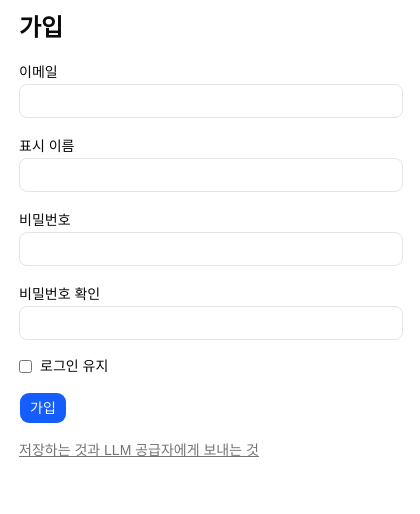
Scenario: SignUpPage › 비밀번호와 확인이 다르면 보내지 않는다
Type "kim@example.com" into the field labelled "이메일". click: (211, 101)
box: [19, 84, 403, 118]
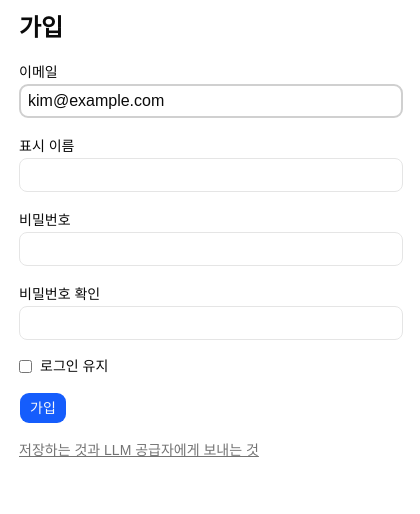
Type "김요즘" into the field labelled "표시 이름". click: (211, 175)
box: [19, 158, 403, 192]
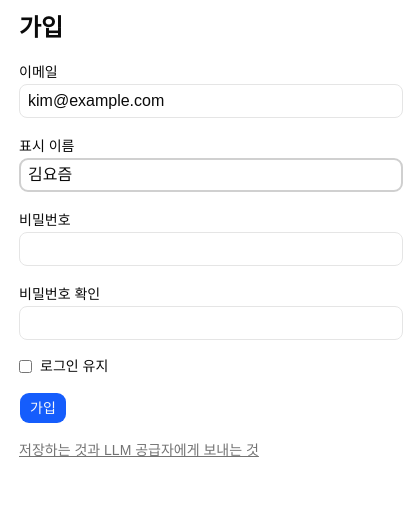
Type "correct horse" into the password field labelled "비밀번호". click: (211, 249)
box: [19, 232, 403, 266]
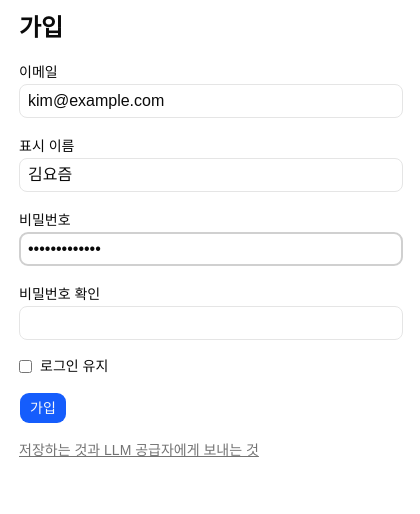
Type "correct hose" into the password field labelled "비밀번호 확인". click: (211, 323)
box: [19, 306, 403, 340]
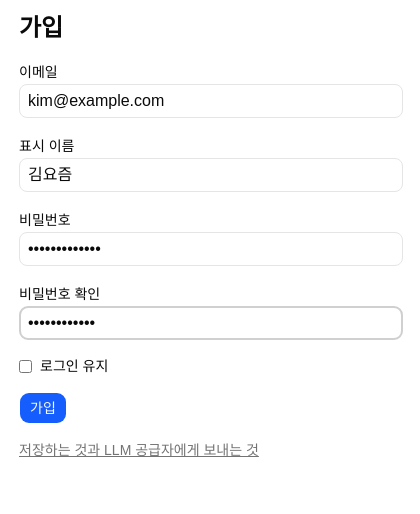
Click the checkbox labelled "로그인 유지". click: (26, 366)
box: [19, 360, 32, 372]
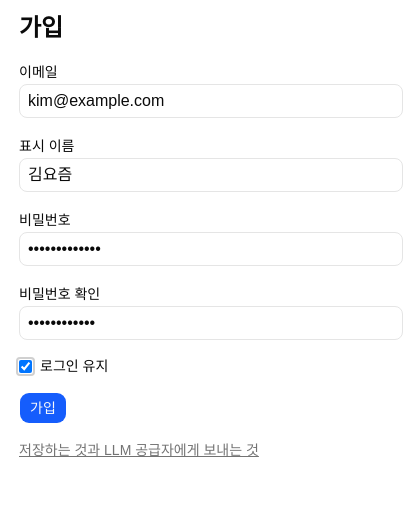
Click the button "가입". click: (43, 408)
box: [19, 392, 67, 424]
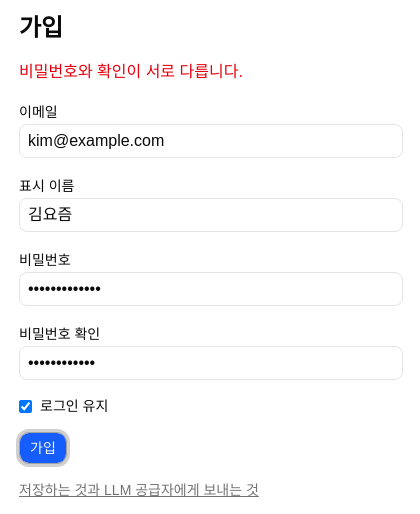
Expected: the message reads "비밀번호와 확인이 서로 다릅니다.", [19, 63, 243, 80]
